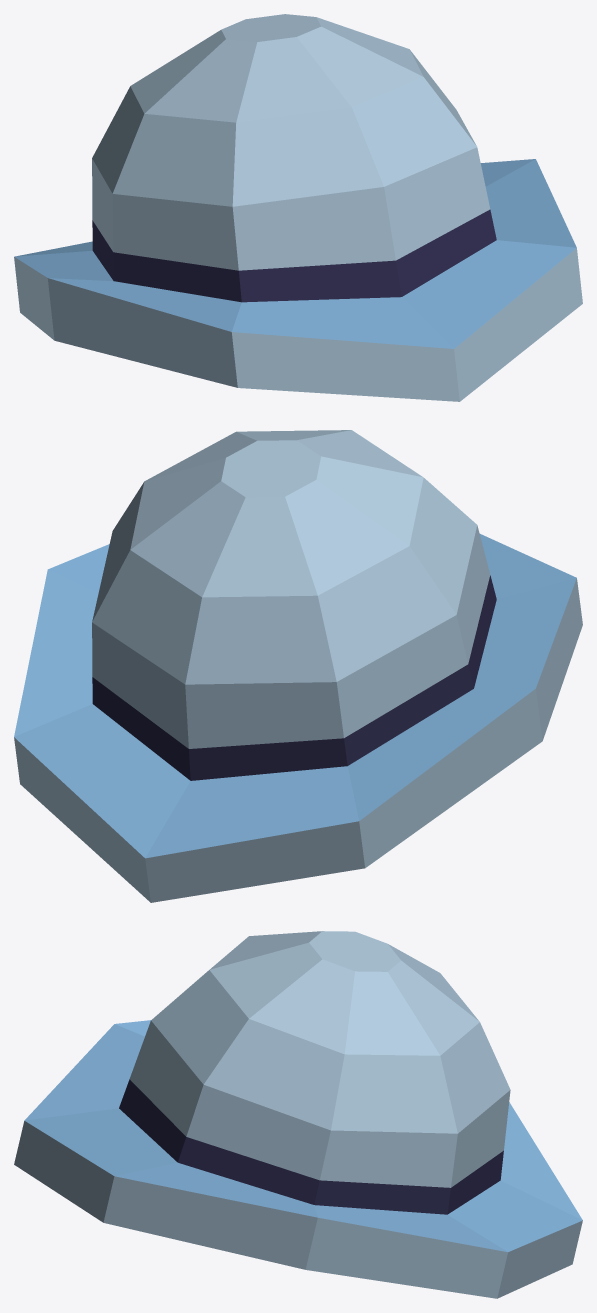
File: Skeleton_Hat.fbx
3 renders of one model, top to bottom at view 1: azimuth 30°, elevation 25°; view 2: azimuth 150°, elevation 25°; view 3: azimuth 270°, elevation 25°, orthographic. The views are drawn at different scales.
Visible parts, largest first — view 1: Skeleton_Hat; view 2: Skeleton_Hat; view 3: Skeleton_Hat.
Part boxes in pixels (x1=…): Skeleton_Hat: x1=14, y1=14, x2=582, y2=401; Skeleton_Hat: x1=14, y1=430, x2=582, y2=902; Skeleton_Hat: x1=14, y1=931, x2=582, y2=1298.
Bounding box in the file's own units: 34.32 × 23.92 × 38.32.
